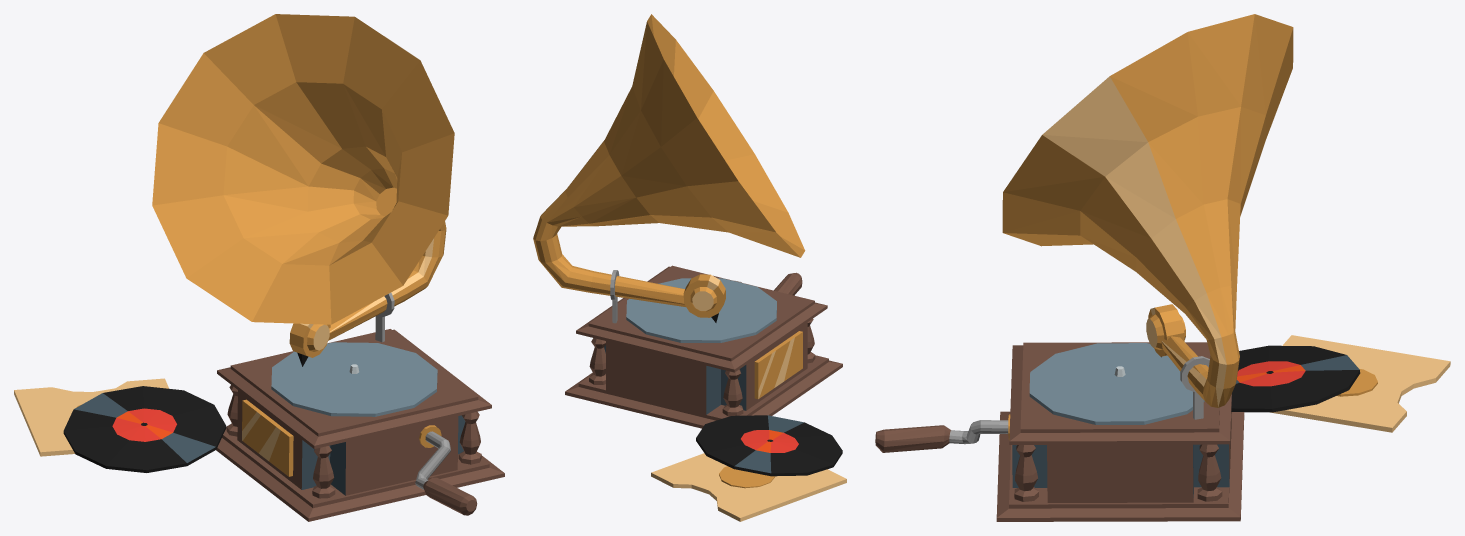
The model's file is NakedGramophone.fbx.
3 renders of one model, left to right at view 1: azimuth 30°, elevation 25°; view 2: azimuth 150°, elevation 25°; view 3: azimuth 270°, elevation 25°, orthographic. The views are drawn at different scales.
Parts seen in each view (by area): view 1: group225046476; view 2: group225046476; view 3: group225046476.
Boxes of the visible parts, bbox=[...] form: group225046476: bbox=[14, 14, 504, 521]; group225046476: bbox=[533, 14, 846, 521]; group225046476: bbox=[875, 14, 1450, 521].
Bounding box in the file's own units: 90.27 × 95.11 × 109.
